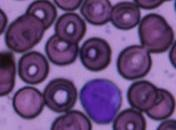L: (80, 76, 122, 124)
